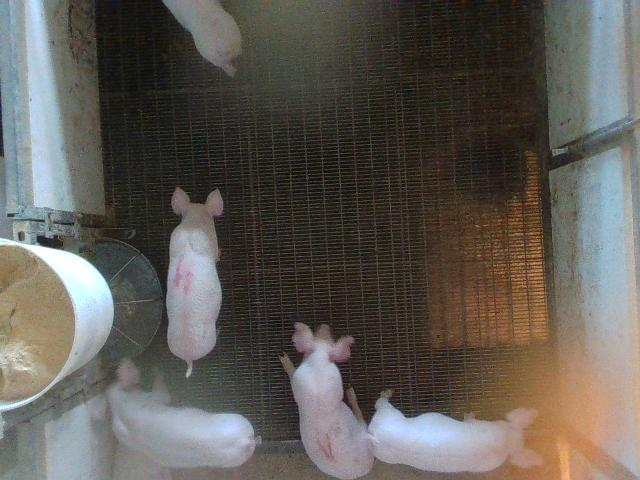pig-1: (280, 322, 374, 479)
pig-4: (168, 188, 222, 377)
